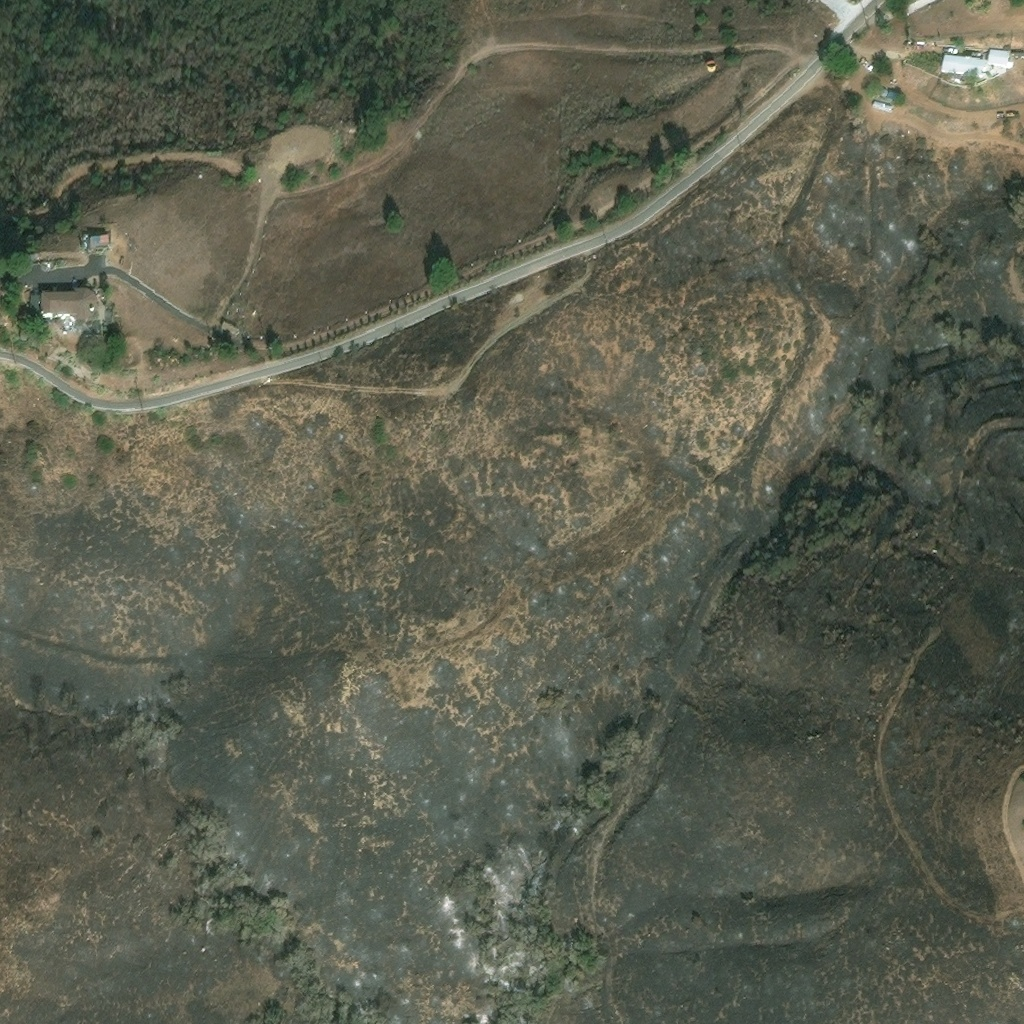0 no-damage: (939, 51, 1013, 83), (871, 101, 893, 116), (88, 236, 109, 249), (879, 91, 899, 103), (705, 60, 716, 72)
1 minor-damage: (28, 288, 101, 338)
